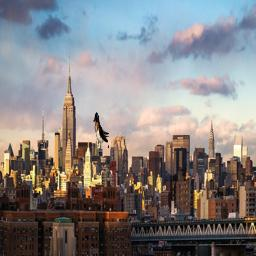Swallow: (93, 112, 109, 152)
